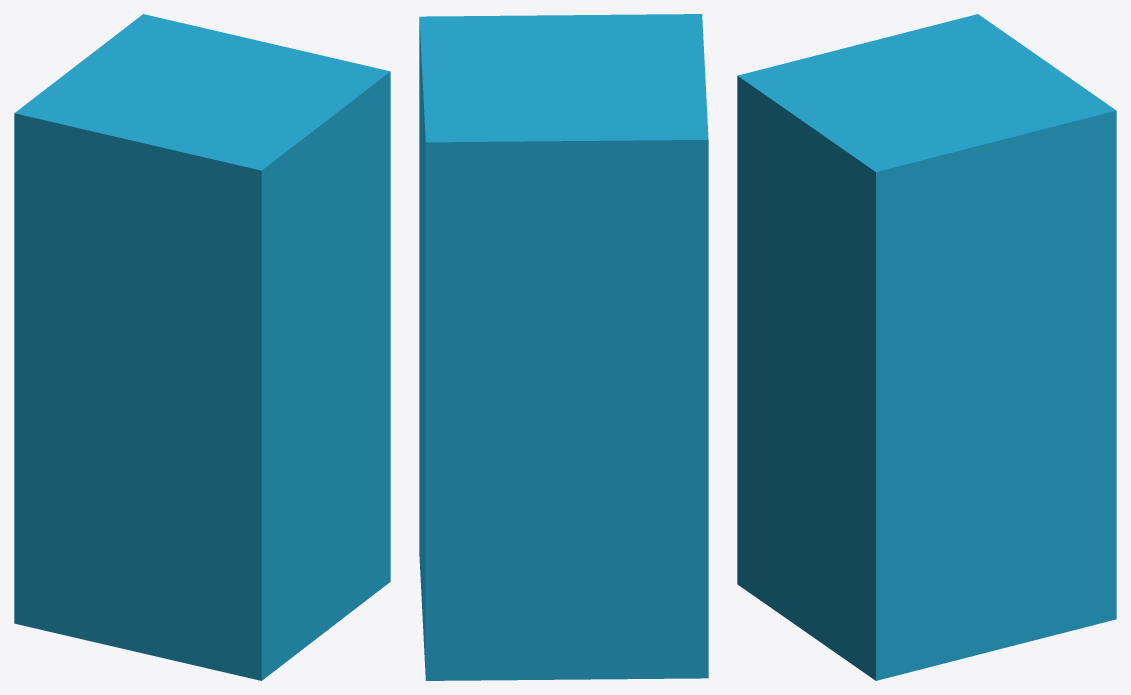
3 views of the same model, side by side, from view 1: azimuth 30°, elevation 25°; view 2: azimuth 150°, elevation 25°; view 3: azimuth 270°, elevation 25° (orthographic). The views are drawn at different scales.
Visible parts, largest first — view 1: Visual_Cube; view 2: Visual_Cube; view 3: Visual_Cube.
Part boxes in pixels (bbox=[...]): Visual_Cube: bbox=[14, 14, 390, 680]; Visual_Cube: bbox=[419, 14, 708, 680]; Visual_Cube: bbox=[737, 14, 1116, 680].
Bounding box in the file's own units: 121 × 182 × 123.
